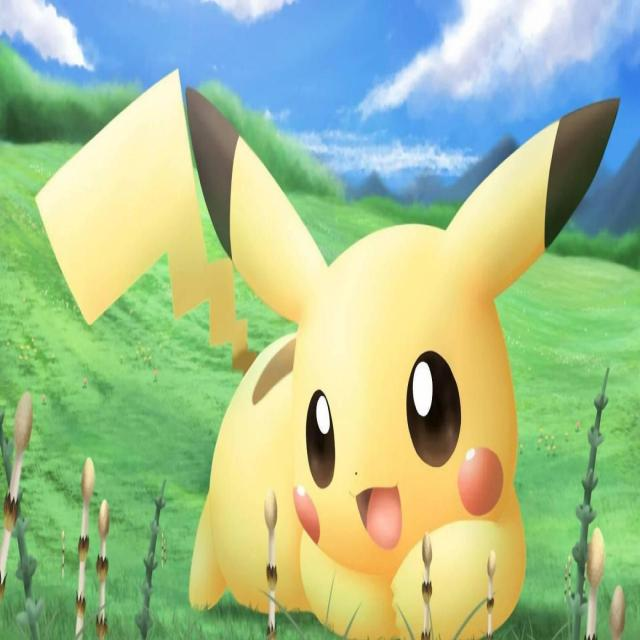pikachu: (35, 68, 620, 640)
